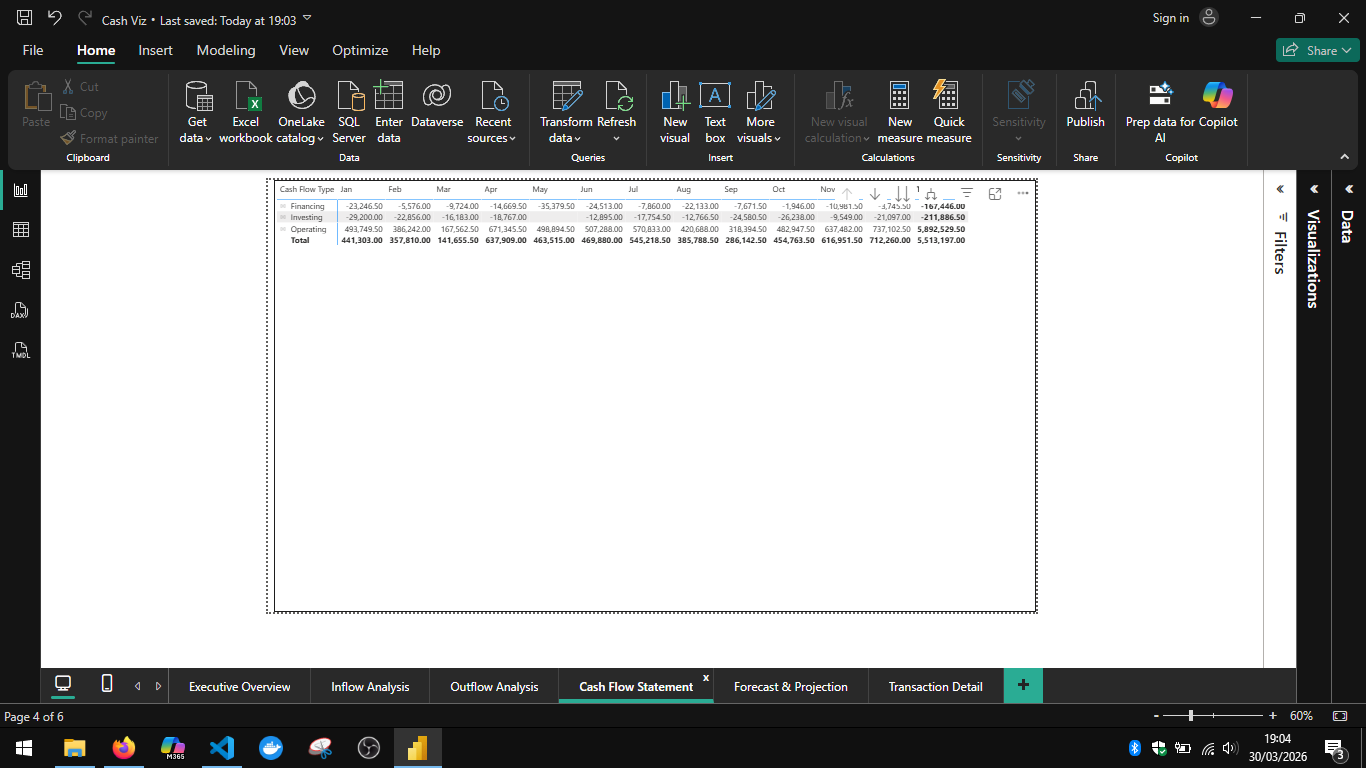

Layout of this report page (visuals, bound fields, positions):
{"tool":"powerbi","page":{"name":"Cash Flow Statement","canvas":[1280,720],"ordinal":3},"visuals":[{"type":"pivotTable","fields":{"Rows":["DimCategory.Cash Flow Type","DimCategory.Category"],"Columns":["DimDate.Month Name"],"Values":["MeasuresTable.Net Cash Flow"]},"box":[10,0,1270,720],"z":0}]}

Visuals, with their boxes on the page's 1280x720 design canvas (x1, y1, x2, y2). These are canvas units, not pixel positions in the 1366x768 screenshot, which may show the page scaled, cropped or inside an application window:
pivotTable - DimCategory.Cash Flow Type x DimCategory.Category: crop(10, 0, 1280, 720)
